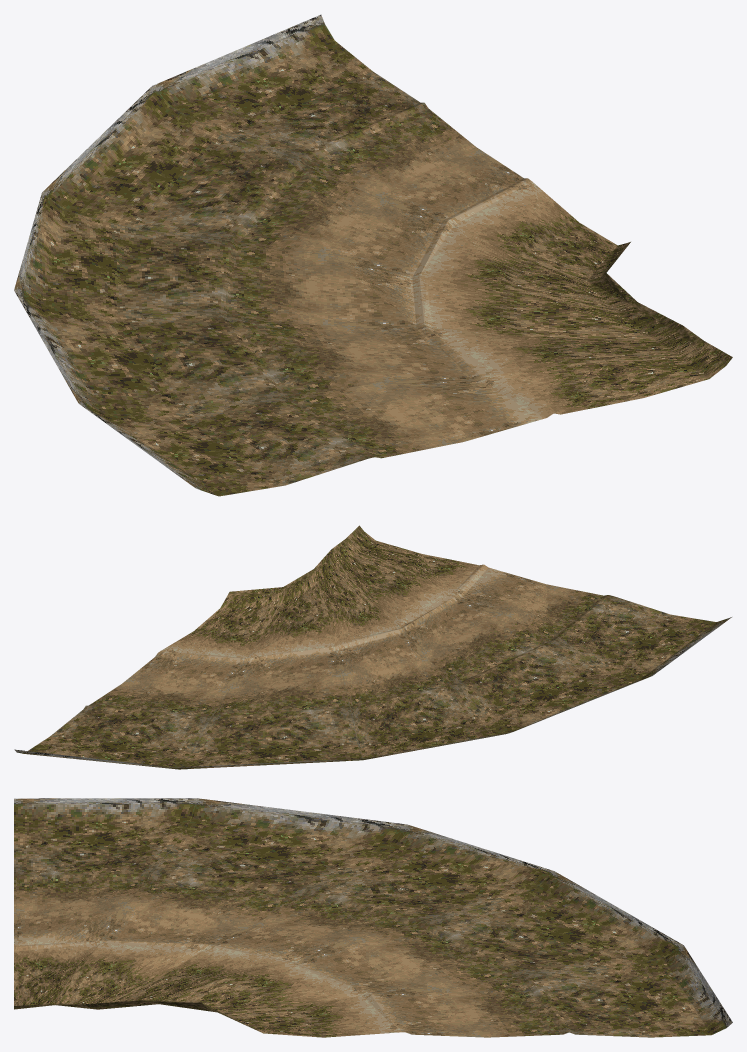
Rendered from 5_road_01_bend.glb.
3 renders of one model, top to bottom at view 1: azimuth 30°, elevation 25°; view 2: azimuth 150°, elevation 25°; view 3: azimuth 270°, elevation 25°, orthographic. The views are drawn at different scales.
Visible parts, largest first — view 1: 5_road_01_bend; view 2: 5_road_01_bend; view 3: 5_road_01_bend.
Boxes of the visible parts, box(x1,y1,x2,y2) form: 5_road_01_bend: box(14, 14, 732, 496); 5_road_01_bend: box(14, 525, 731, 769); 5_road_01_bend: box(14, 798, 732, 1037).
Size of the model in its own units: 29.19 by 0.9262 by 39.56.
1 material, 1 textured.
